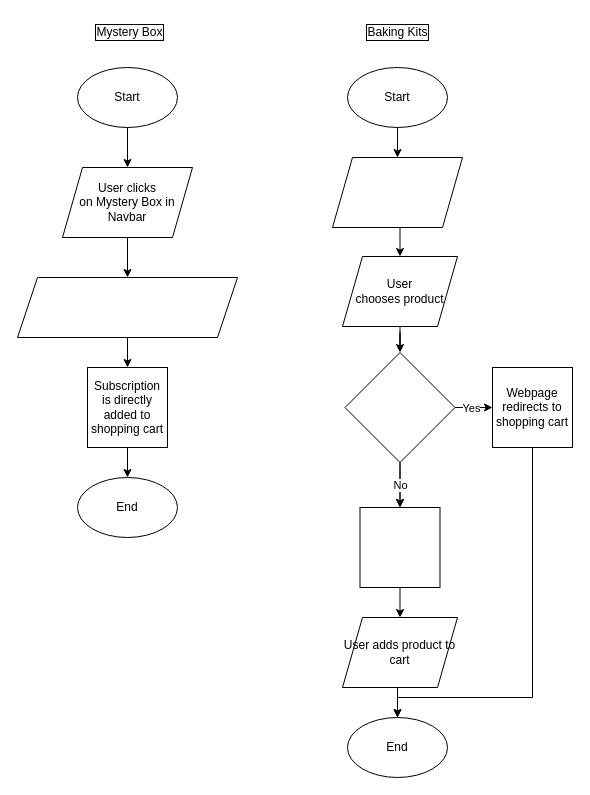
Image size: 590x795. Some labels were removed from this diagram. The shapes that lost their labels are listed below. From the top down, each one's box as (x1, y1, x2, y2) in pixels, then its label:
(332, 156, 462, 228): User clicks on Baking Kit in Navbar
(16, 276, 238, 338): User selects the plan they'd like to subscribe to
(344, 352, 455, 462): Add directly to cart
(359, 506, 440, 588): Product details page is loaded
